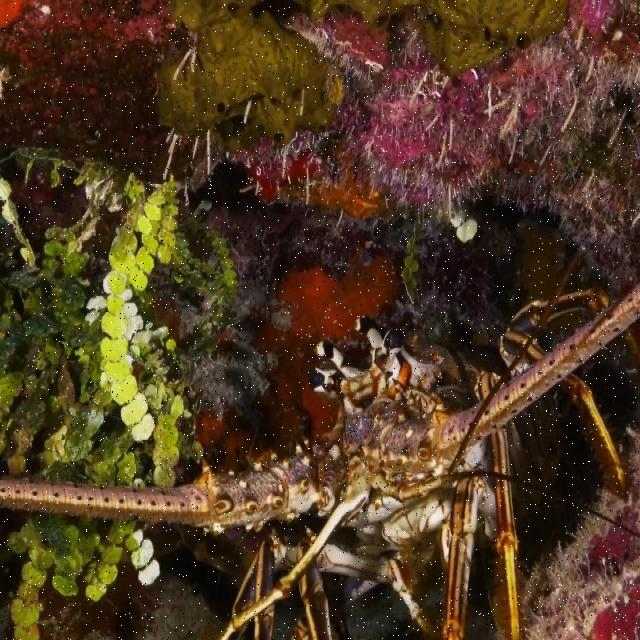aquatic plants: (0, 146, 235, 638), (294, 0, 639, 288), (228, 130, 334, 202)
reefs: (0, 250, 639, 639)
